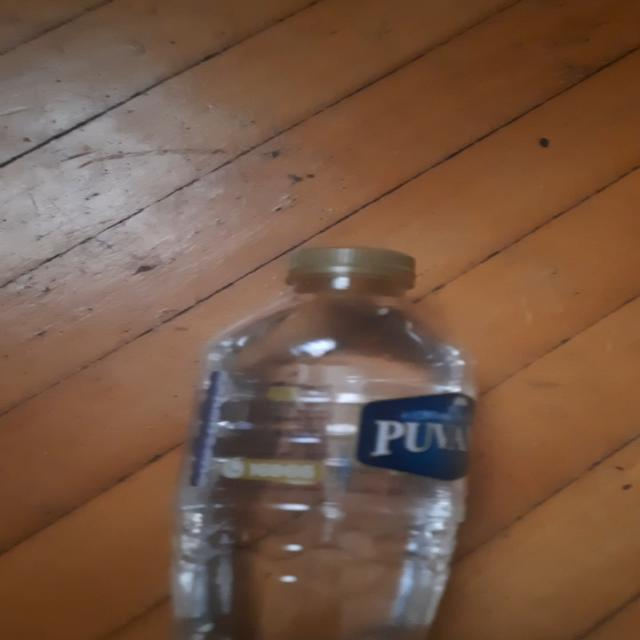Plastic: (169, 248, 478, 640), (185, 381, 476, 503), (282, 250, 418, 288)
